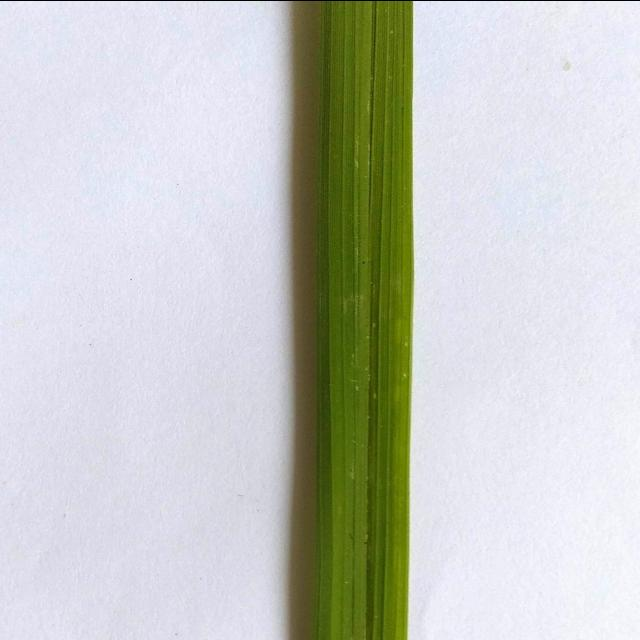healthy: (265, 0, 448, 639)
